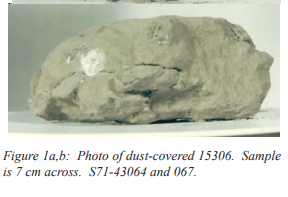Breccia: (30, 19, 260, 117)
